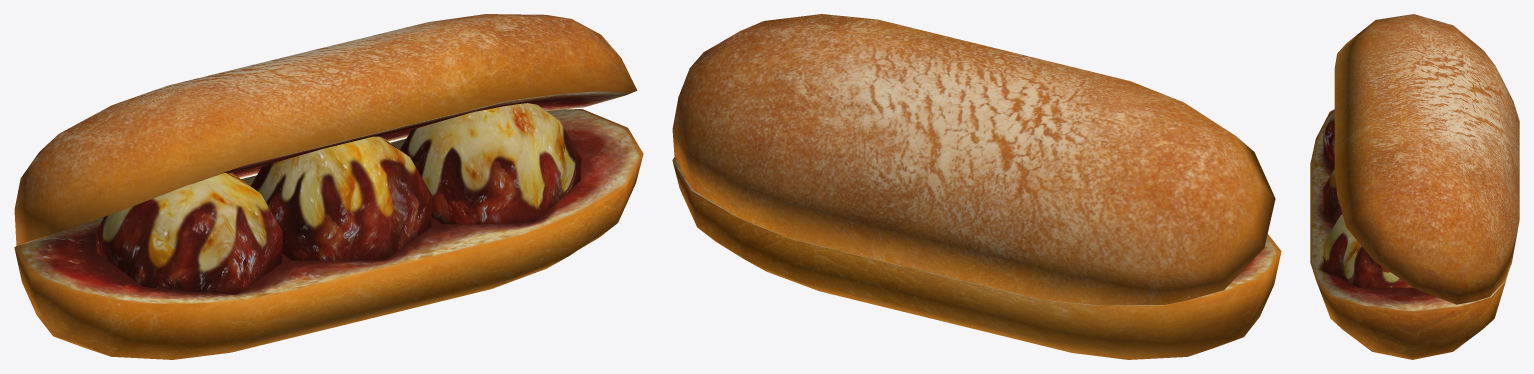
Rendered from FFHP_MOD_Meatball_sub.fbx.
3 views of the same model, side by side, from view 1: azimuth 30°, elevation 25°; view 2: azimuth 150°, elevation 25°; view 3: azimuth 270°, elevation 25° (orthographic). The views are drawn at different scales.
Parts seen in each view (by area): view 1: FFHP_MOD_Meatballs_sub; view 2: FFHP_MOD_Meatballs_sub; view 3: FFHP_MOD_Meatballs_sub.
Boxes of the visible parts, x1,y1,x2,y2 form: FFHP_MOD_Meatballs_sub: [14, 14, 643, 359]; FFHP_MOD_Meatballs_sub: [672, 14, 1281, 359]; FFHP_MOD_Meatballs_sub: [1310, 14, 1519, 359].
Bounding box in the file's own units: 0.3394 × 0.136 × 0.1331.
